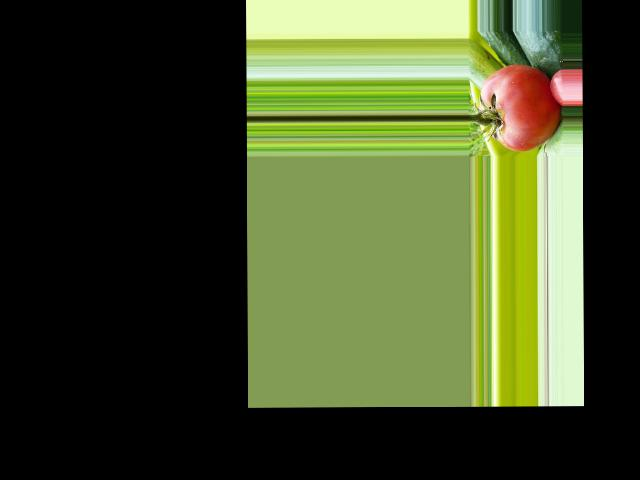tomato: (480, 64, 561, 151)
